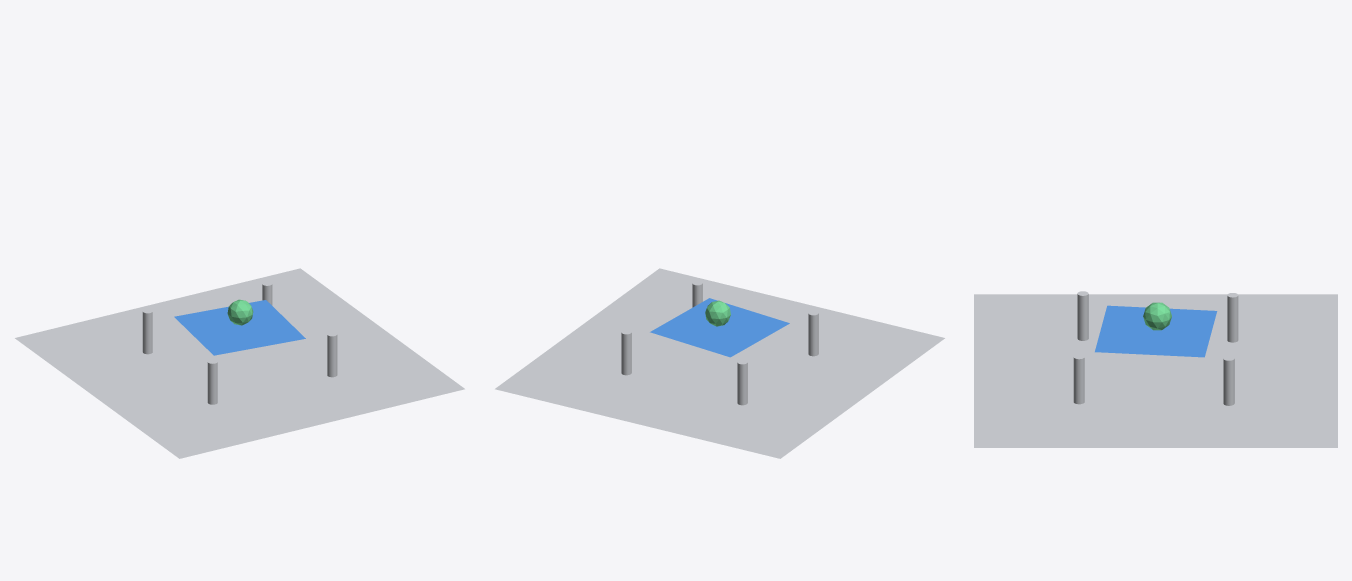
The model's file is RopeCloth.glb.
3 views of the same model, side by side, from view 1: azimuth 30°, elevation 25°; view 2: azimuth 150°, elevation 25°; view 3: azimuth 270°, elevation 25° (orthographic). The views are drawn at different scales.
Visible parts, largest first — view 1: Plane.007, Plane.008; view 2: Plane.007, Plane.008; view 3: Plane.007, Plane.008, Icosphere.001, Cylinder.007, Cylinder.005, Cylinder.004, Cylinder.006.
Part boxes in pixels (box(x1,y1,x2,y2)): Plane.007: box(15, 268, 464, 458); Plane.008: box(174, 300, 305, 355); Plane.007: box(495, 268, 944, 458); Plane.008: box(650, 298, 789, 357); Plane.007: box(974, 294, 1337, 447); Plane.008: box(1095, 305, 1217, 357); Icosphere.001: box(1143, 302, 1171, 330); Cylinder.007: box(1073, 354, 1084, 404); Cylinder.005: box(1077, 291, 1088, 340); Cylinder.004: box(1223, 356, 1234, 405); Cylinder.006: box(1227, 293, 1238, 342).
Bounding box in the file's own units: 4 × 4.84 × 4.
